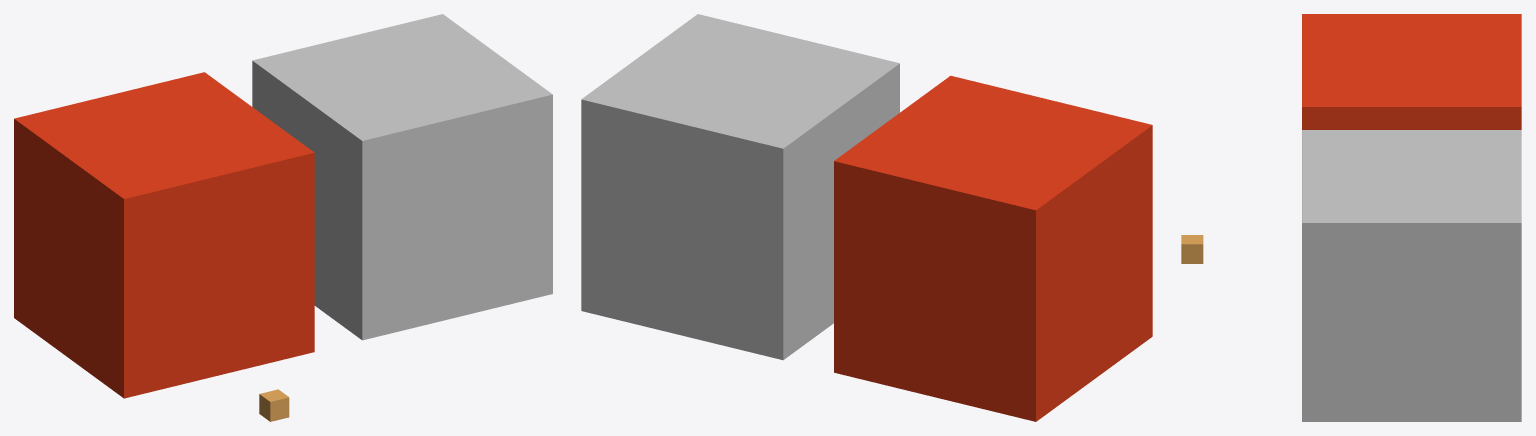
The model's file is baked.glb.
3 views of the same model, side by side, from view 1: azimuth 30°, elevation 25°; view 2: azimuth 150°, elevation 25°; view 3: azimuth 270°, elevation 25° (orthographic). The views are drawn at different scales.
Parts seen in each view (by area): view 1: module_0_0_wall.001, module_0_0_prop.001; view 2: module_0_0_wall.001; view 3: module_0_0_wall.001, module_0_0_prop.001.
Part boxes in pixels (<box>): module_0_0_wall.001: <box>14,14,552,398</box>; module_0_0_prop.001: <box>259,389,289,421</box>; module_0_0_wall.001: <box>581,14,1152,421</box>; module_0_0_wall.001: <box>1302,14,1521,421</box>; module_0_0_prop.001: <box>1181,235,1203,263</box>.
Size of what is drawn, in the model's own units: 4.5 by 2 by 3.1.
2 materials, 2 textured.
